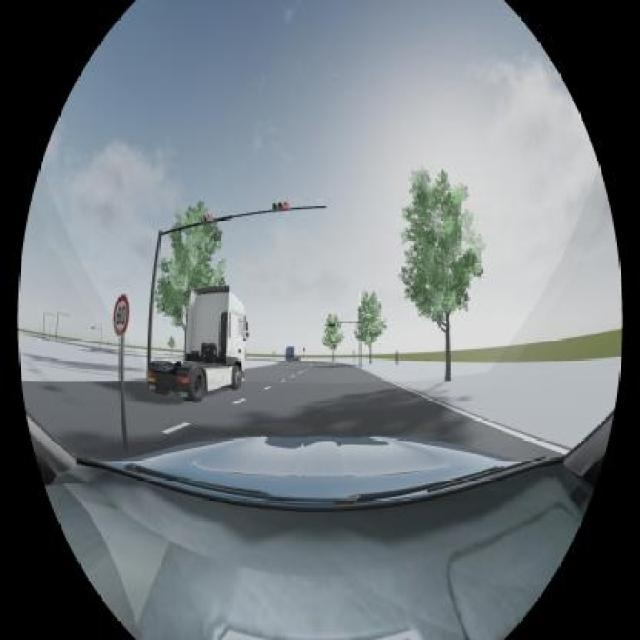forb_speed_over_60: (113, 294, 130, 337)
